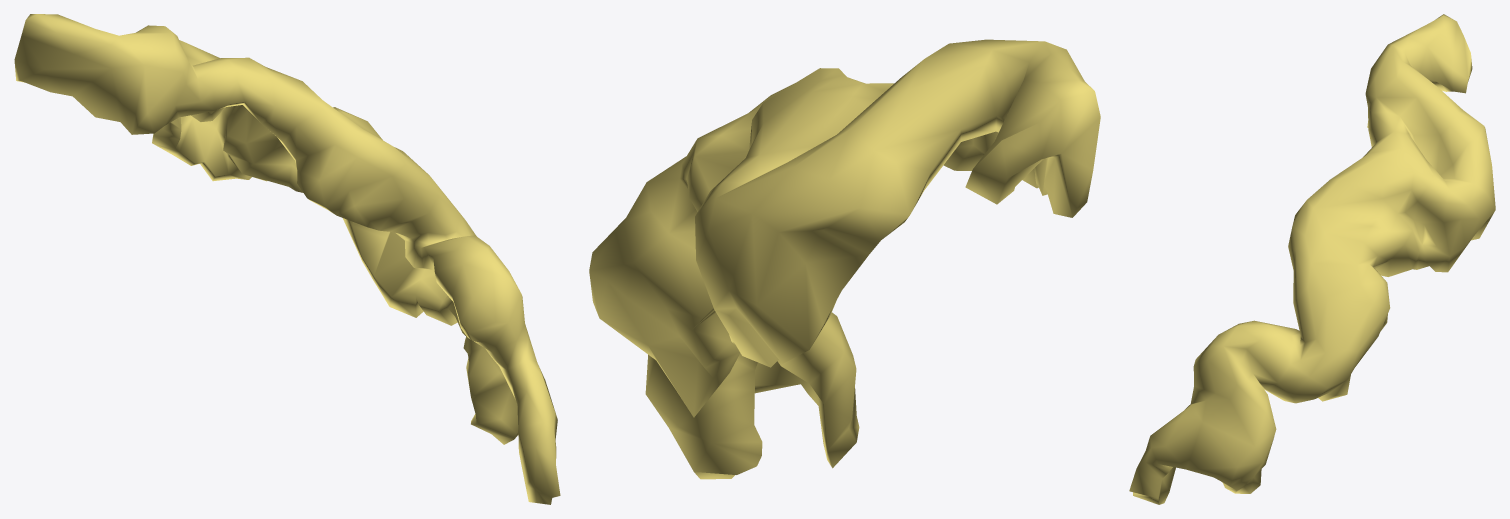
The model's file is postcentral-gyrus-l.glb.
3 views of the same model, side by side, from view 1: azimuth 30°, elevation 25°; view 2: azimuth 150°, elevation 25°; view 3: azimuth 270°, elevation 25° (orthographic). The views are drawn at different scales.
Parts seen in each view (by area): view 1: Postcentral gyrus.l; view 2: Postcentral gyrus.l; view 3: Postcentral gyrus.l.
Boxes of the visible parts, left/top/right/bottom form: Postcentral gyrus.l: left=14, top=14, right=560, bottom=504; Postcentral gyrus.l: left=589, top=39, right=1100, bottom=479; Postcentral gyrus.l: left=1129, top=14, right=1495, bottom=504.
Bounding box in the file's own units: 0.0528 × 0.0558 × 0.0515.
